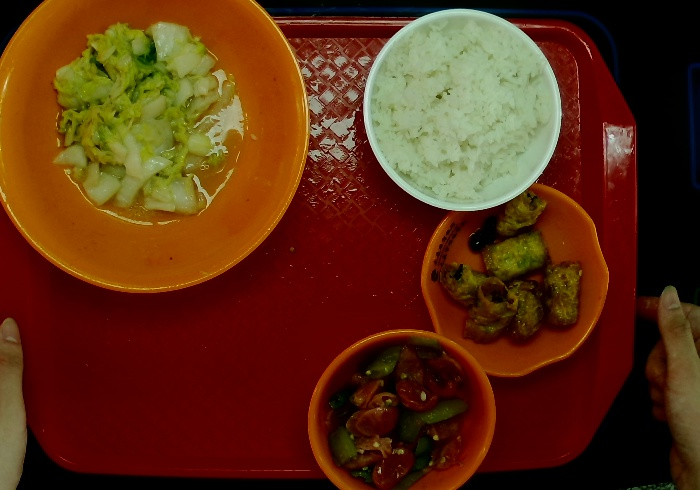YKMZ-Fan_Wan: (359, 10, 564, 213)
YKMZ-Ju_Se_Ao_Bian_Wan: (423, 181, 610, 377)
YKMZ-Ju_Se_Tang_Wan: (1, 1, 308, 292)
YKMZ-Ju_Se_Yuan_Wan: (304, 328, 498, 490)
